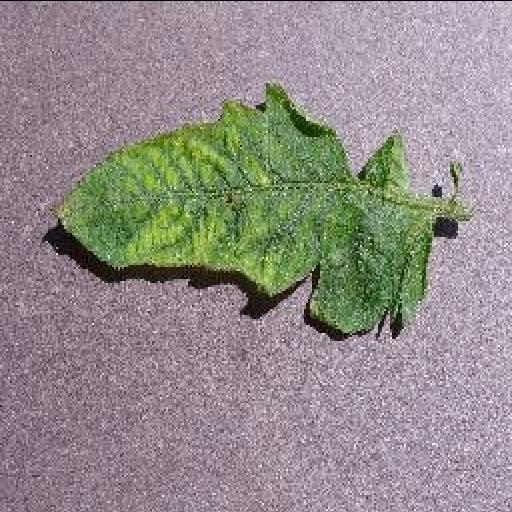Mosaic Virus: (52, 74, 434, 338)
